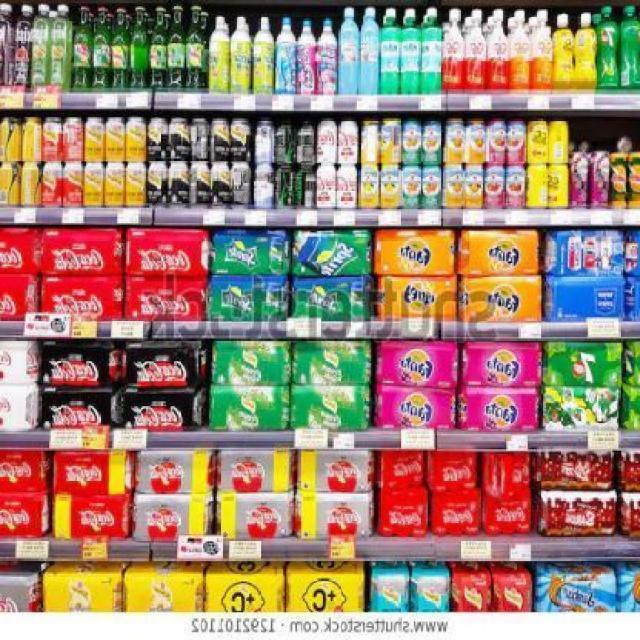Drinks: (120, 340, 208, 388), (125, 228, 210, 276), (373, 228, 456, 276), (42, 274, 125, 322), (40, 227, 124, 274), (210, 226, 292, 274), (456, 229, 539, 276), (459, 276, 542, 322), (125, 276, 208, 322), (291, 229, 372, 276), (41, 339, 122, 386), (376, 276, 458, 322), (375, 342, 460, 386), (208, 275, 290, 320), (458, 389, 540, 434), (135, 495, 214, 541), (217, 493, 296, 539), (38, 386, 120, 430), (292, 278, 374, 322), (541, 342, 622, 386), (124, 388, 204, 432), (462, 342, 542, 386), (375, 388, 456, 431), (53, 495, 133, 538), (295, 493, 374, 536), (53, 450, 132, 493), (542, 390, 620, 433), (136, 450, 214, 493), (219, 450, 296, 493), (298, 450, 374, 493), (380, 490, 428, 538), (431, 491, 482, 536), (1, 449, 48, 494), (1, 495, 48, 538), (597, 5, 620, 90), (427, 452, 480, 488), (378, 450, 426, 488), (485, 498, 531, 534)
